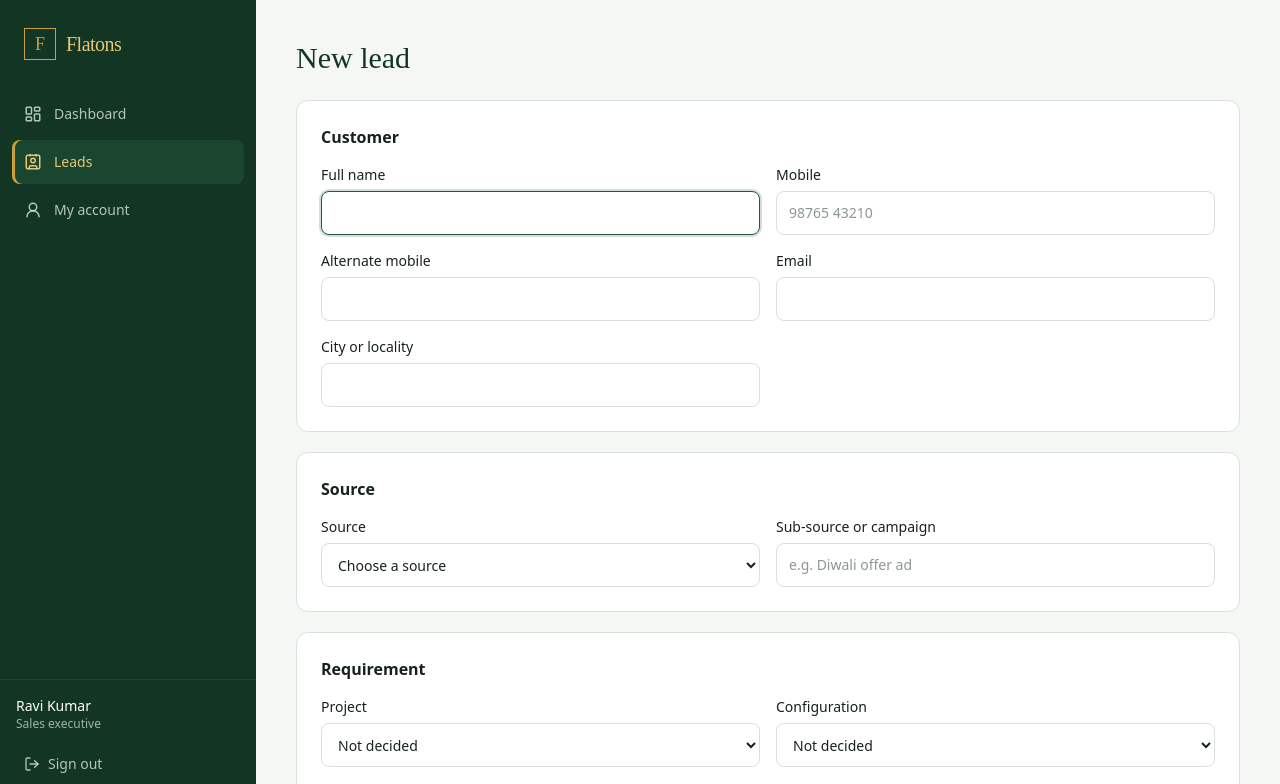
Test: lead form › shows the server's validation message
Type "Test" into the field labelled "Full name". click: x=540, y=213
box: [321,191,760,235]
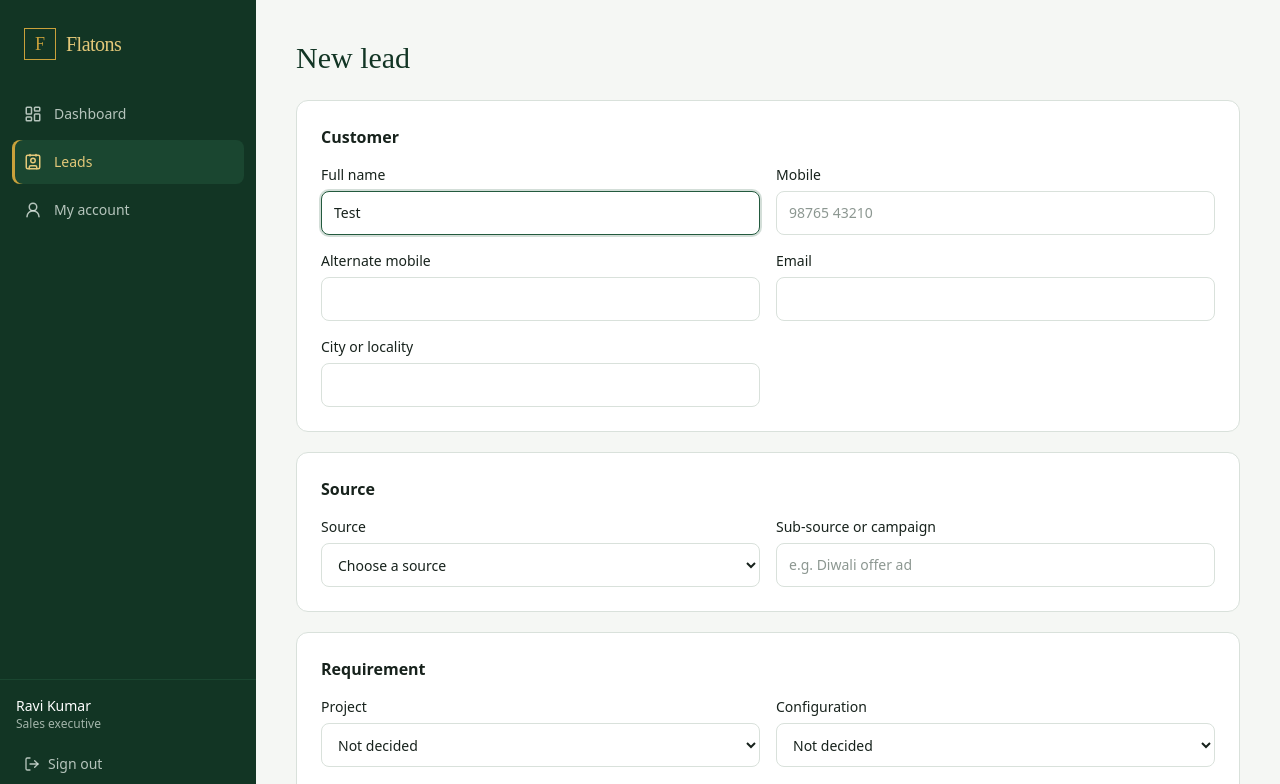
Type "12345" into the field labelled "Mobile". click: x=996, y=213
box: [776,191,1215,235]
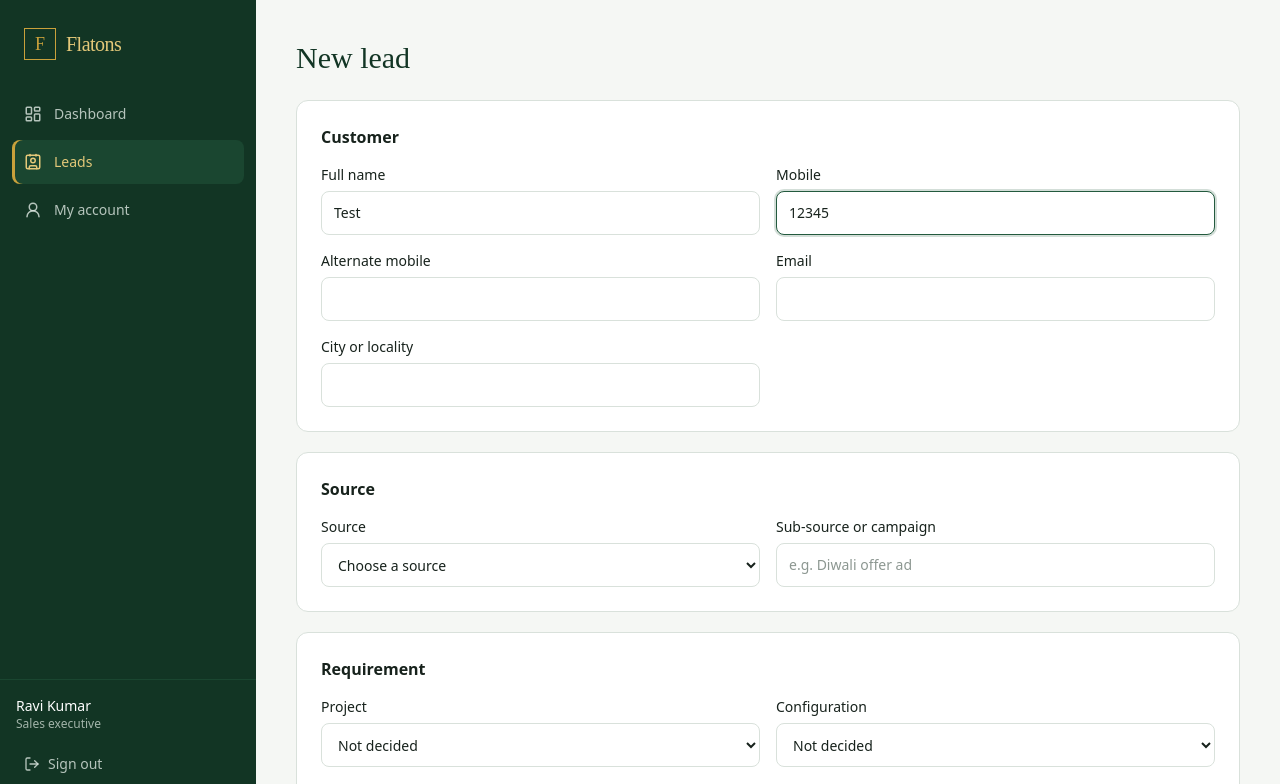
Select "Walk-in" in the dropdown labelled "Source". click: x=540, y=565
box: [321,543,760,587]
(page scrolled)
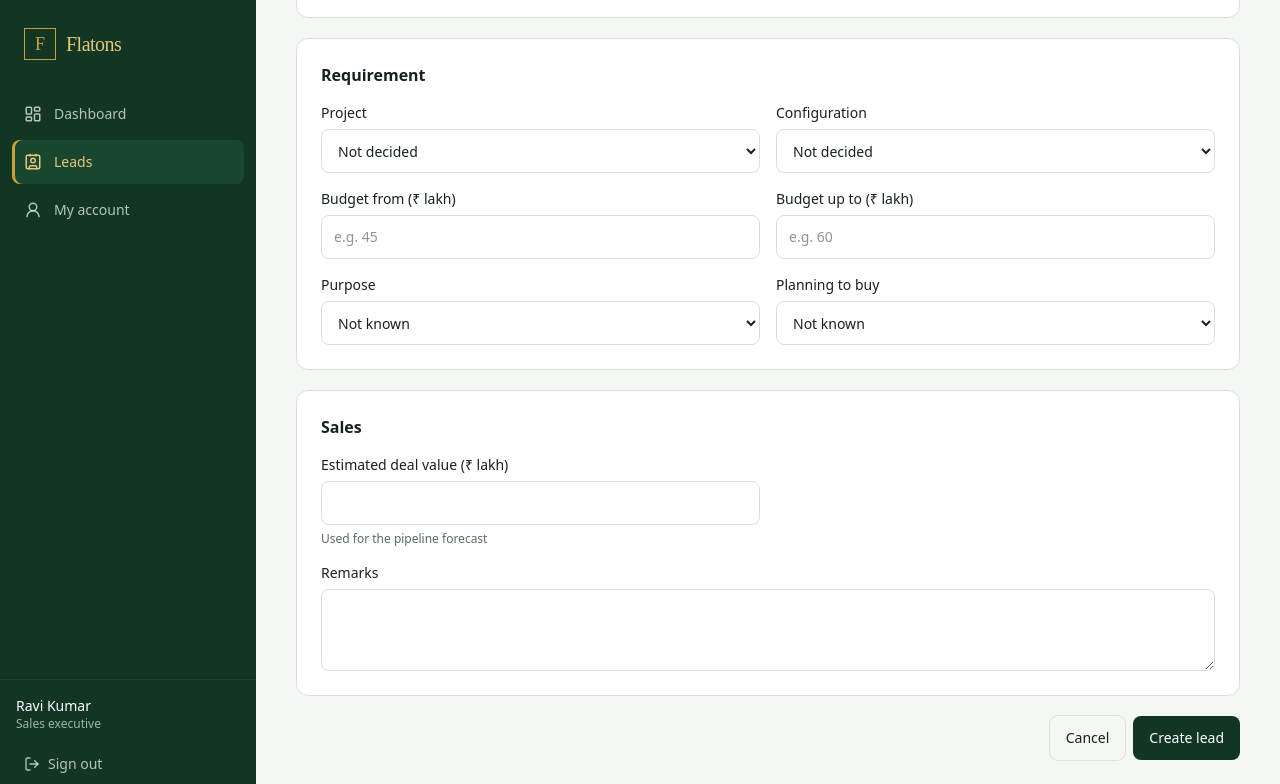
Click the button "Create lead". click: x=1187, y=738
box: [1133,716,1240,760]
(page scrolled)
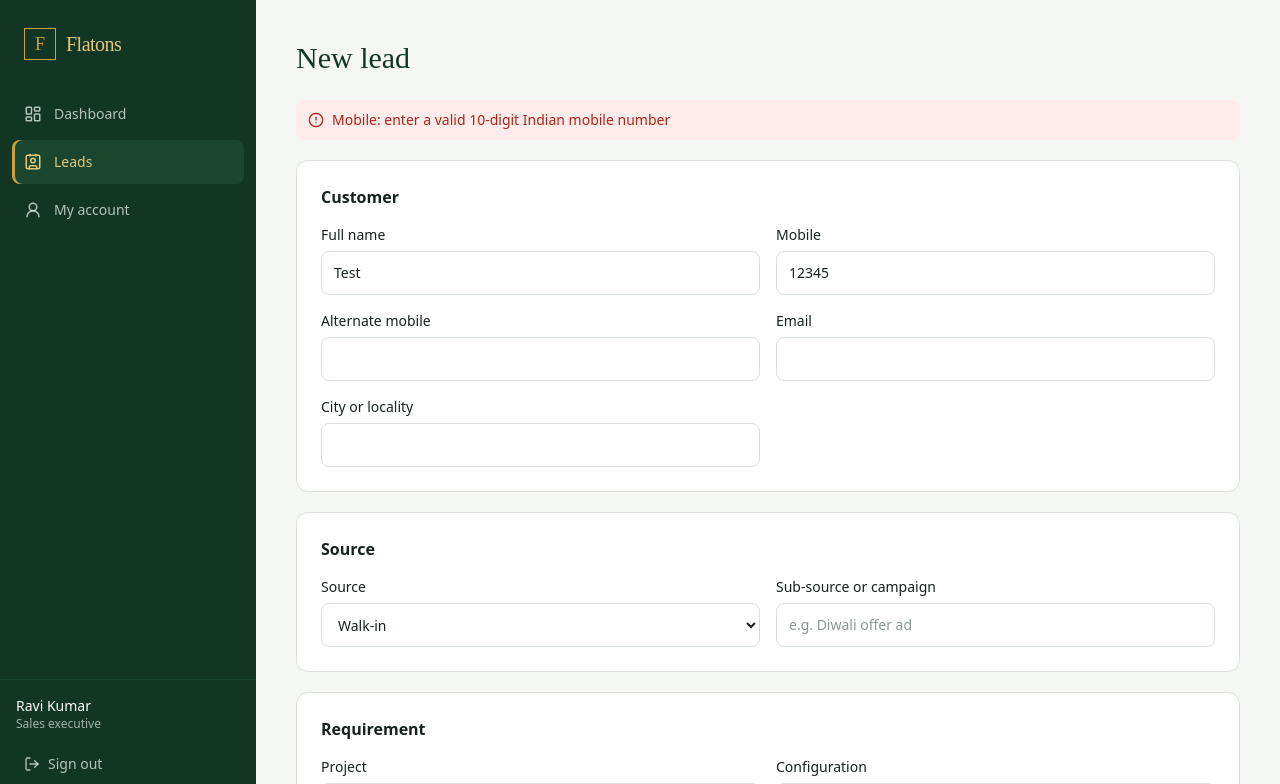
expect the text "Mobile: enter a valid 10-digit Indian mobile number" is shown: met, box [332,110,670,130]
